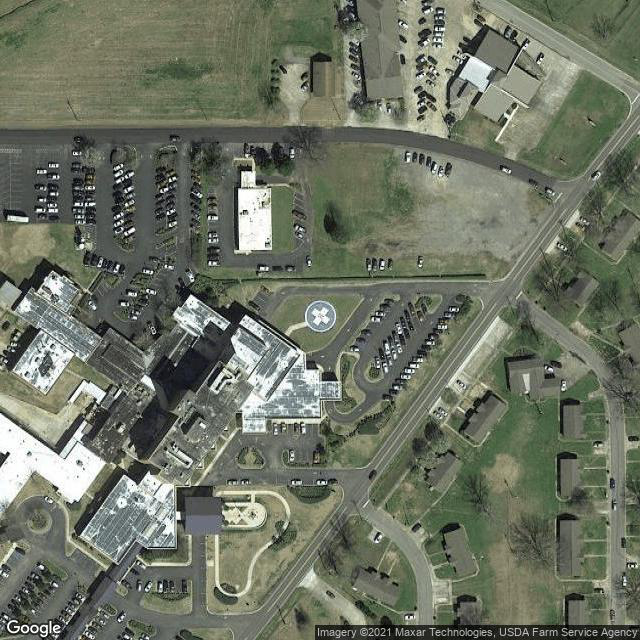Helipad: (301, 299, 340, 333)
